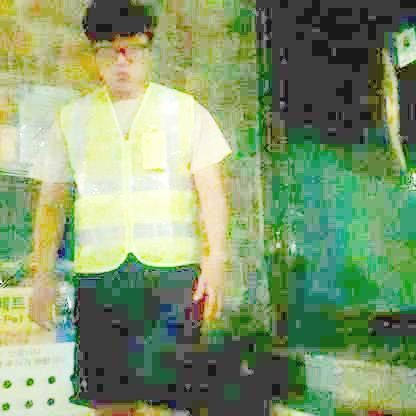no-helmet: (78, 0, 165, 68)
vest: (62, 86, 199, 273)
